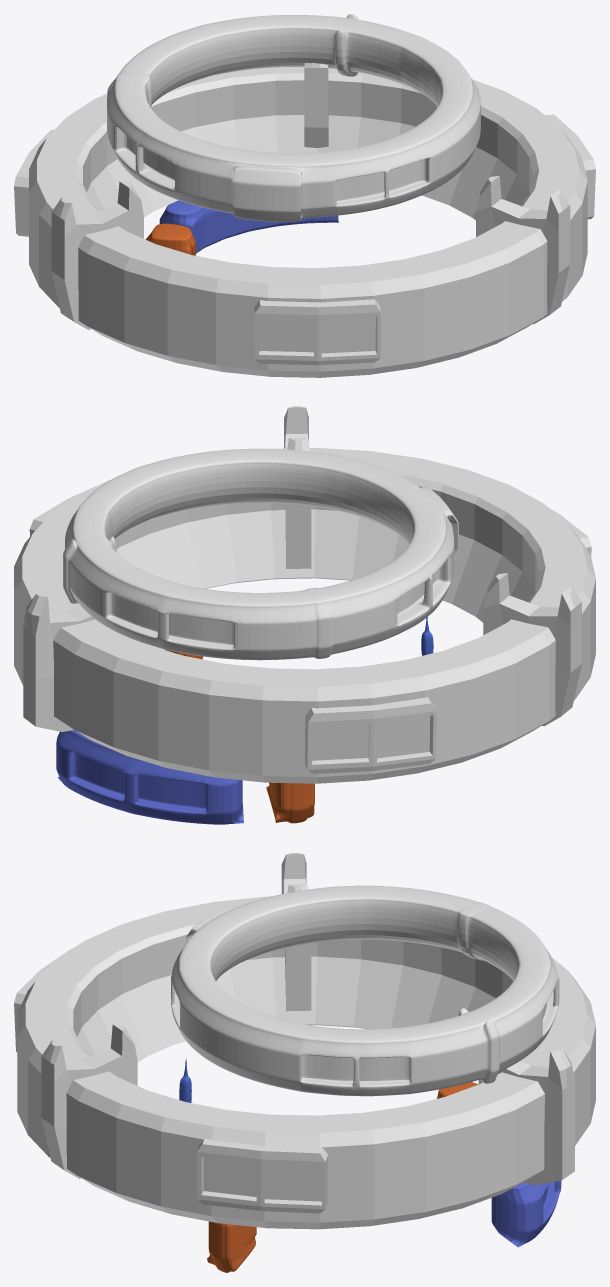
The picture shows the model from 3 angles, top to bottom: view 1: azimuth 30°, elevation 25°; view 2: azimuth 150°, elevation 25°; view 3: azimuth 270°, elevation 25°; orthographic projection. The views are drawn at different scales.
Visible parts, largest first — view 1: Cylinder.004, Cylinder.001, Cube.005, Cube.001, Cube.003, Cylinder, Cube.002, Cube.004, Cylinder.002, Cube.006; view 2: Cylinder.004, Cylinder.001, Cylinder, Cube.004, Cube.001, Cube.002, Cube.003, Cylinder.002; view 3: Cylinder.004, Cylinder.001, Cube.006, Cube.003, Cube.002, Cylinder, Cube.001, Cylinder.003.
Boxes of the visible parts, x1,y1,x2,y2 form: Cylinder.004: (29, 67, 587, 377); Cylinder.001: (107, 14, 480, 221); Cube.005: (254, 299, 380, 365); Cube.001: (51, 181, 143, 329); Cube.003: (476, 176, 570, 324); Cylinder: (159, 200, 339, 253); Cube.002: (304, 62, 328, 147); Cube.004: (14, 129, 53, 236); Cylinder.002: (146, 223, 195, 255); Cube.006: (545, 114, 595, 219); Cylinder.004: (14, 448, 595, 783); Cylinder.001: (63, 448, 458, 660); Cylinder: (56, 730, 243, 824); Cube.004: (305, 697, 436, 773); Cube.001: (483, 573, 581, 726); Cube.002: (23, 590, 95, 731); Cube.003: (284, 406, 311, 568); Cylinder.002: (266, 782, 314, 823); Cylinder.004: (17, 896, 595, 1229); Cylinder.001: (171, 885, 559, 1096); Cube.006: (196, 1138, 327, 1213); Cube.003: (41, 1024, 137, 1178); Cube.002: (478, 1044, 574, 1185); Cylinder: (491, 1180, 561, 1247); Cube.001: (281, 853, 311, 1011); Cylinder.003: (207, 1221, 256, 1272).
Bounding box in the file's own units: 1471 × 632 × 1403.
